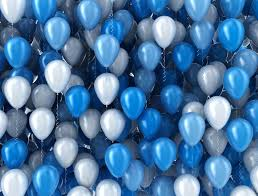Balloon: (226, 118, 255, 153), (204, 154, 231, 188), (217, 17, 244, 50), (223, 66, 249, 100), (151, 136, 177, 170), (4, 37, 32, 68), (178, 113, 205, 145), (120, 86, 146, 119), (94, 34, 120, 67), (1, 138, 28, 169), (100, 108, 126, 140), (104, 143, 130, 175), (94, 73, 120, 105), (44, 17, 70, 49), (204, 97, 231, 127), (29, 108, 55, 139), (32, 165, 58, 196), (151, 15, 176, 46), (1, 169, 29, 196), (44, 60, 71, 88), (4, 76, 29, 106), (53, 137, 77, 167), (198, 65, 222, 94), (65, 85, 89, 114), (188, 20, 212, 49), (5, 107, 27, 138), (172, 41, 194, 72), (77, 1, 101, 29), (78, 108, 100, 137), (75, 158, 98, 185), (160, 85, 182, 113), (173, 174, 201, 196), (138, 42, 161, 68), (139, 108, 159, 137), (1, 1, 25, 24), (31, 83, 52, 107), (185, 1, 210, 20), (219, 1, 245, 19), (153, 174, 174, 196), (96, 178, 120, 196), (33, 1, 55, 18)
